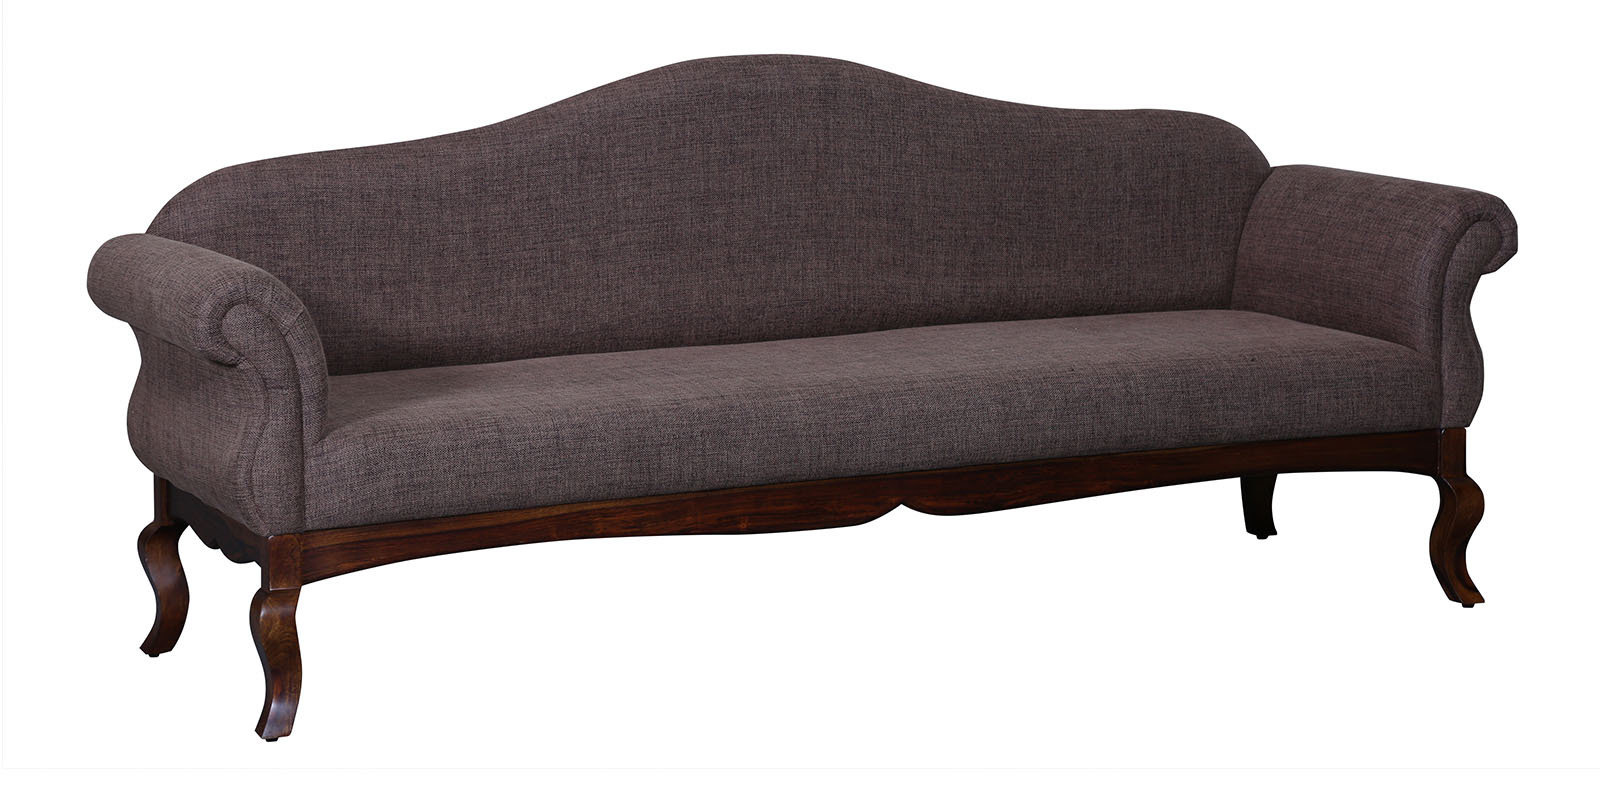Anne Three Seater Sofa in Provincial Teak Finish by Amberville: (88, 51, 1516, 638)
